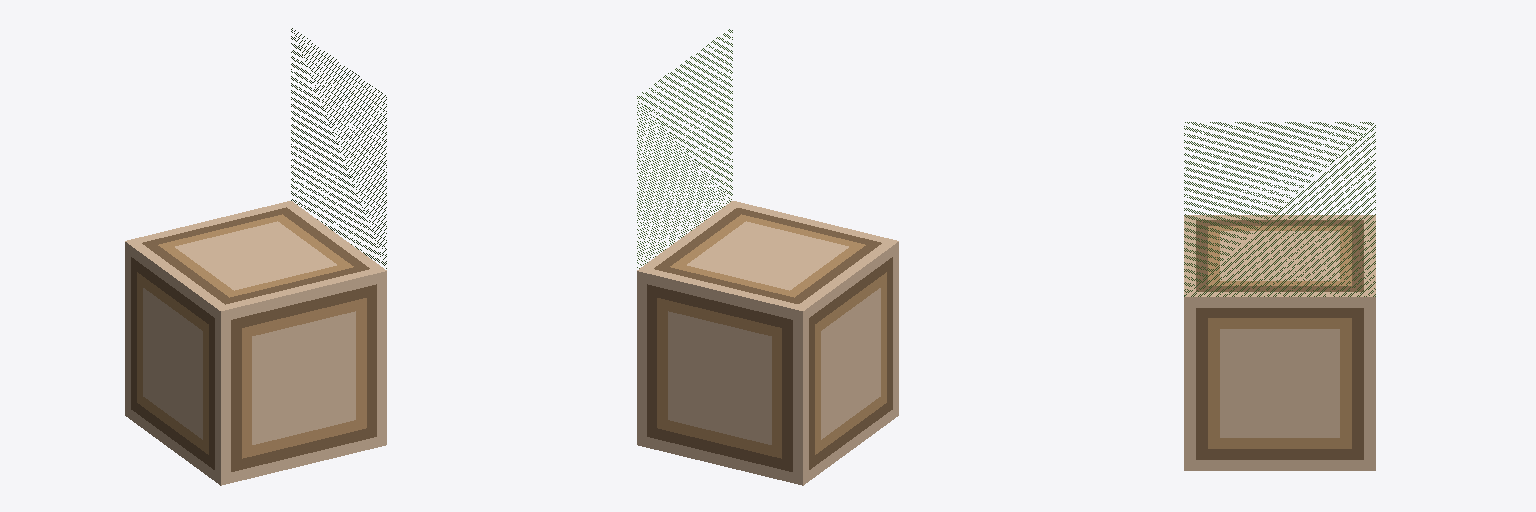
3 views of the same model, side by side, from view 1: azimuth 30°, elevation 25°; view 2: azimuth 150°, elevation 25°; view 3: azimuth 270°, elevation 25° (orthographic).
Visible parts, largest first — view 1: Default; view 2: Default; view 3: Default.
Boxes of the visible parts, box(x1,y1,x2,y2) form: Default: box(125, 28, 386, 485); Default: box(637, 29, 898, 485); Default: box(1184, 122, 1375, 470).
Bounding box in the file's own units: 1 × 2 × 1.
1 materials, 1 textured.